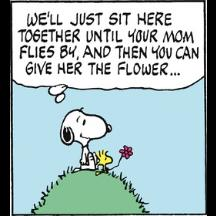snoopy: (58, 106, 112, 174)
